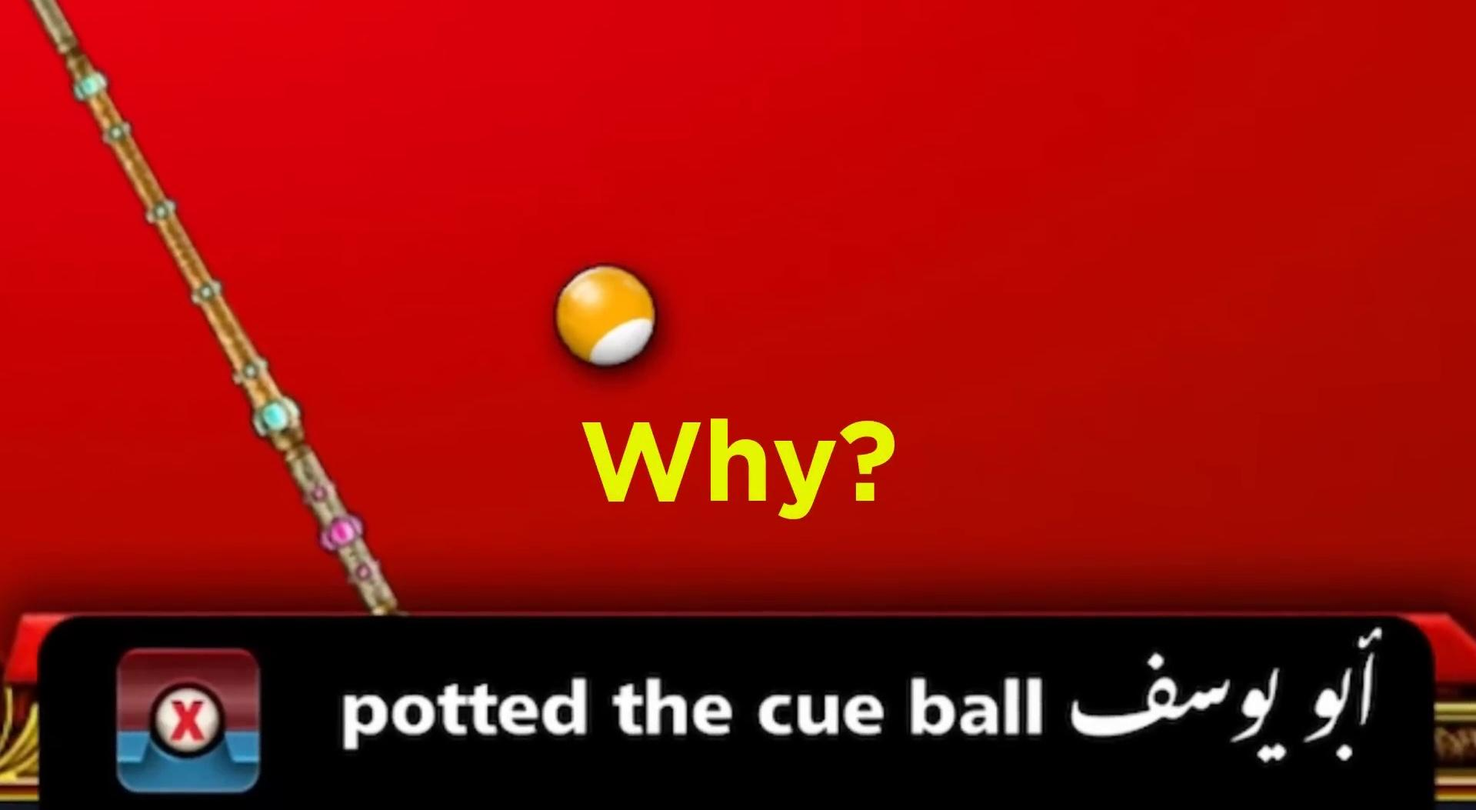Ball: (541, 255, 667, 376)
Hole: (0, 665, 38, 794)
